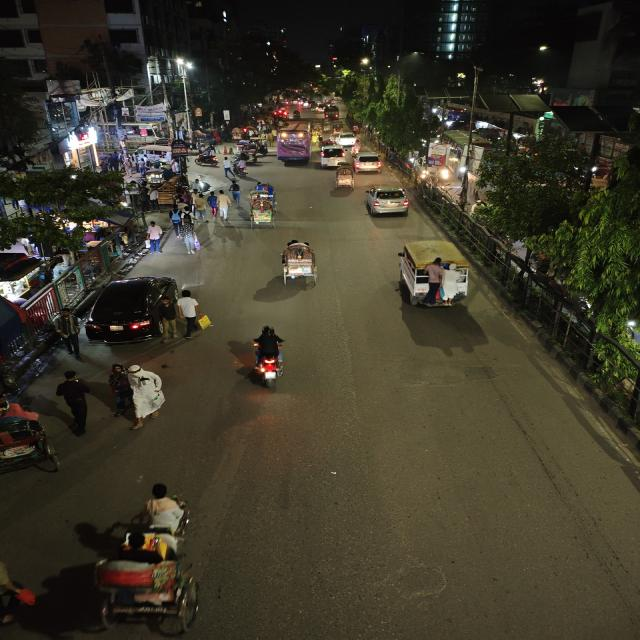bus: (273, 123, 315, 165)
car: (84, 273, 175, 345), (362, 183, 413, 219), (352, 152, 384, 173), (319, 146, 346, 168), (335, 133, 359, 147)
human_hauler: (394, 239, 486, 314)
motorcycle: (244, 324, 296, 392)
pedestrian: (109, 360, 168, 431), (53, 369, 96, 434), (52, 306, 85, 359), (175, 288, 203, 338), (156, 291, 180, 343), (208, 190, 232, 224), (143, 220, 166, 253), (167, 206, 185, 235), (227, 178, 244, 205), (231, 154, 248, 180), (220, 156, 237, 180), (192, 176, 204, 196)
rickshaw: (69, 483, 215, 639), (0, 394, 68, 484), (274, 237, 327, 287), (246, 196, 280, 230), (333, 163, 356, 189), (194, 146, 218, 168)
